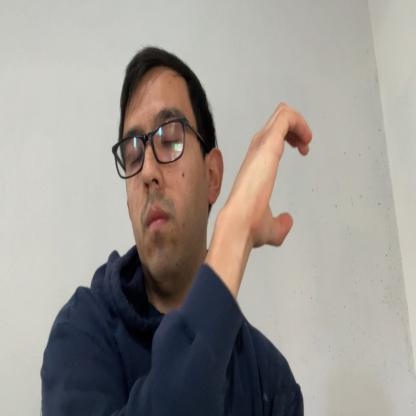C: (242, 100, 314, 249)
